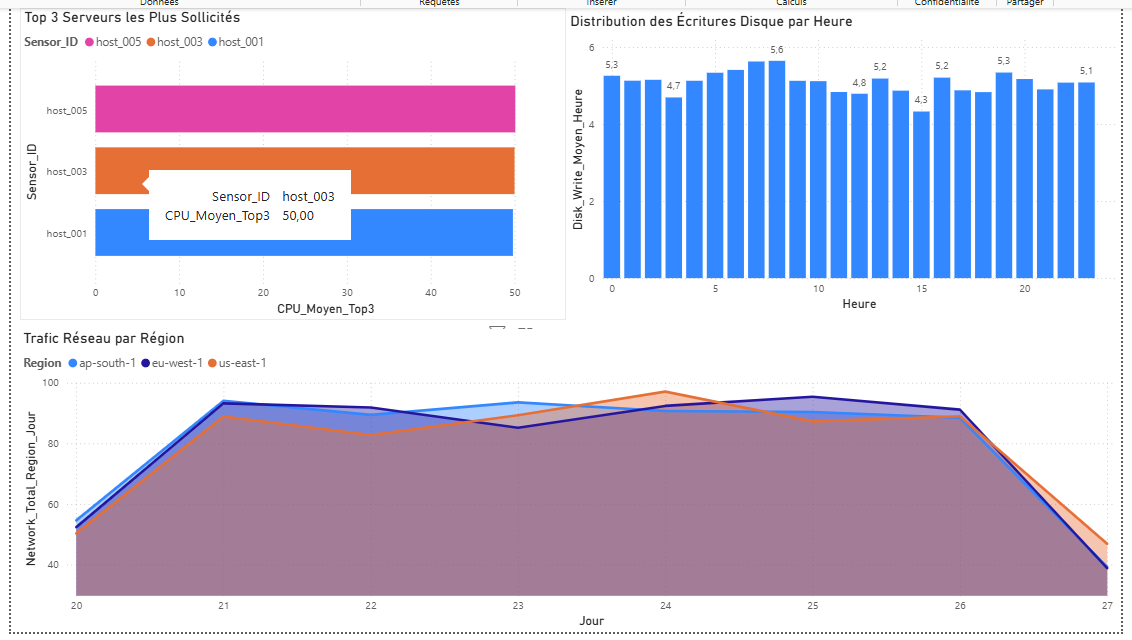

Layout of this report page (visuals, bound fields, positions):
{"tool":"powerbi","page":{"name":"Visu 2","canvas":[1280,720],"ordinal":1},"visuals":[{"type":"barChart","title":"Top 3 Serveurs les Plus Sollicités","fields":{"Category":["monitoring.sensor_id"],"Y":["monitoring.CPU_Moyen_Top3"],"Series":["monitoring.sensor_id"]},"box":[9.9,0,631,359.8],"z":0},{"type":"columnChart","title":"Distribution des Écritures Disque par Heure","fields":{"Category":["monitoring.Heure"],"Y":["monitoring.Disk_Write_Moyen_Heure"]},"box":[640.7,4.1,639.3,350.1],"z":1000},{"type":"areaChart","title":"Trafic Réseau par Région","fields":{"Category":["monitoring.Date.Variation.Hiérarchie de dates.Jour"],"Y":["monitoring.Network_Total_Region_Jour"],"Series":["monitoring.Region"]},"box":[9.5,370.3,1270.5,350.1],"z":2000}]}

Visuals, with their boxes on the page's 1280x720 design canvas (x1, y1, x2, y2). These are canvas units, not pixel positions in the 1132x640 screenshot, which may show the page scaled, cropped or inside an application window:
"Top 3 Serveurs les Plus Sollicités" barChart: region(10, 0, 641, 360)
"Distribution des Écritures Disque par Heure" columnChart: region(641, 4, 1280, 354)
"Trafic Réseau par Région" areaChart: region(10, 370, 1280, 720)
